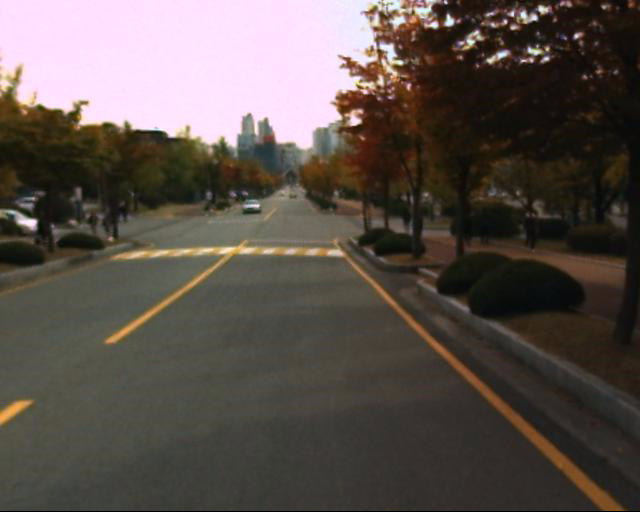person: (516, 203, 544, 258), (478, 207, 498, 249), (459, 209, 479, 251)
